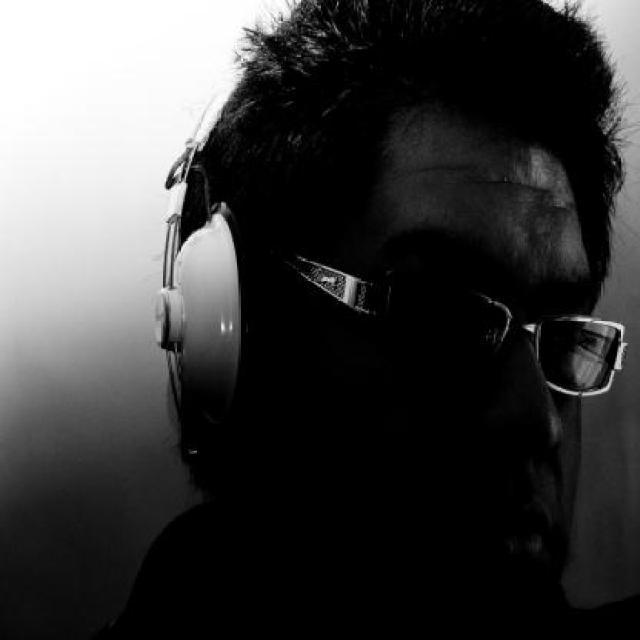earphone: (119, 42, 294, 483)
